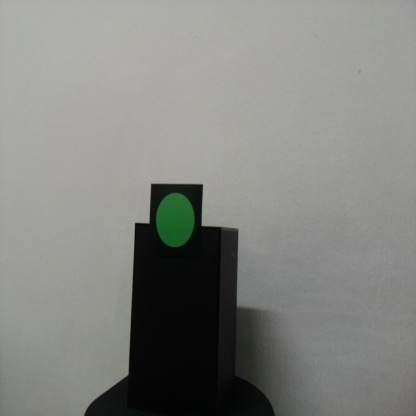id_5: (151, 185, 201, 271)
